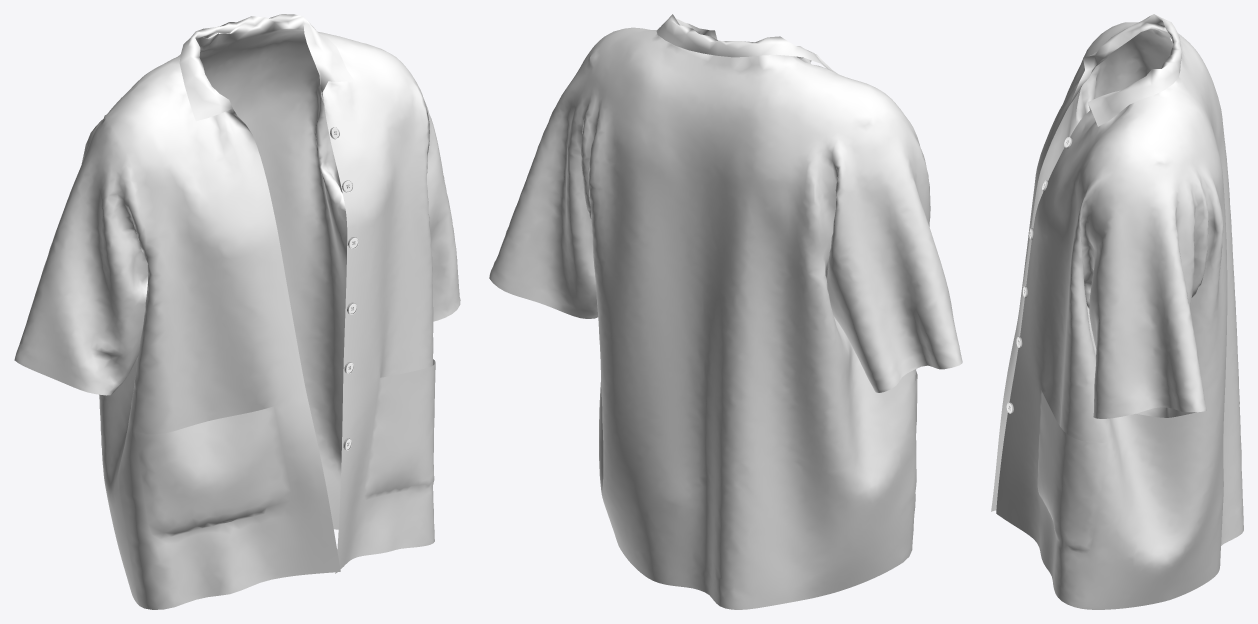
File: FLG_121000.fbx
3 views of the same model, side by side, from view 1: azimuth 30°, elevation 25°; view 2: azimuth 150°, elevation 25°; view 3: azimuth 270°, elevation 25° (orthographic). The views are drawn at different scales.
Visible parts, largest first — view 1: FLG_121000; view 2: FLG_121000; view 3: FLG_121000.
Boxes of the visible parts, x1,y1,x2,y2 form: FLG_121000: (14,14,460,609); FLG_121000: (489,14,962,609); FLG_121000: (991,14,1243,609).
Bounding box in the file's own units: 64.54 × 74.55 × 33.08.
